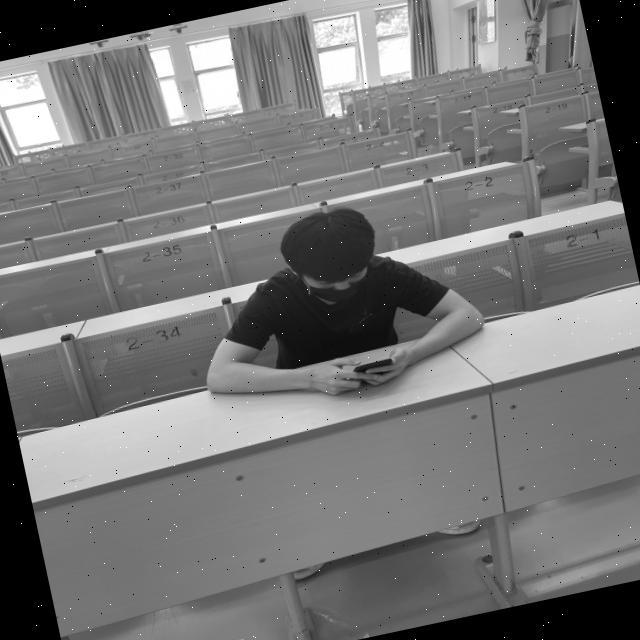phone: (175, 182, 491, 421)
